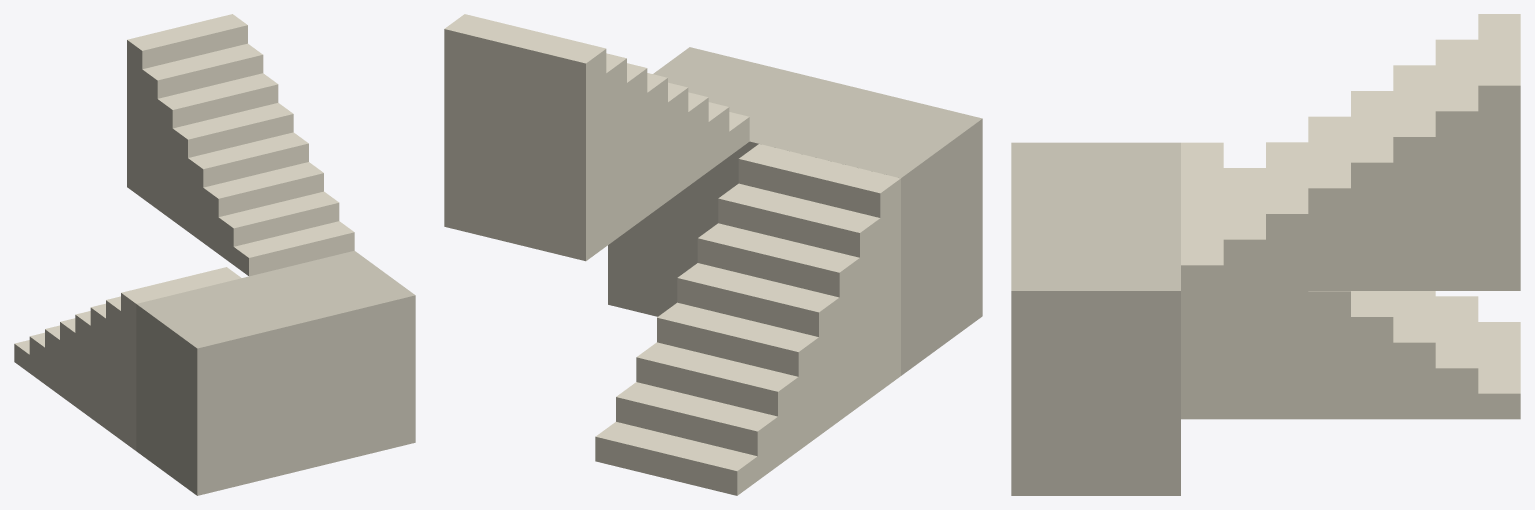
The model's file is stairs-switchback.glb.
3 renders of one model, left to right at view 1: azimuth 30°, elevation 25°; view 2: azimuth 150°, elevation 25°; view 3: azimuth 270°, elevation 25°, orthographic. The views are drawn at different scales.
Visible parts, largest first — view 1: stairs-switchback; view 2: stairs-switchback; view 3: stairs-switchback.
Part boxes in pixels (<box>): stairs-switchback: <box>14,14,415,495</box>; stairs-switchback: <box>444,14,982,495</box>; stairs-switchback: <box>1011,14,1520,495</box>.
Size of the model in its own units: 3.1 by 4 by 4.5.
